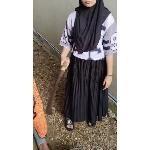Golok: (44, 55, 72, 117)
